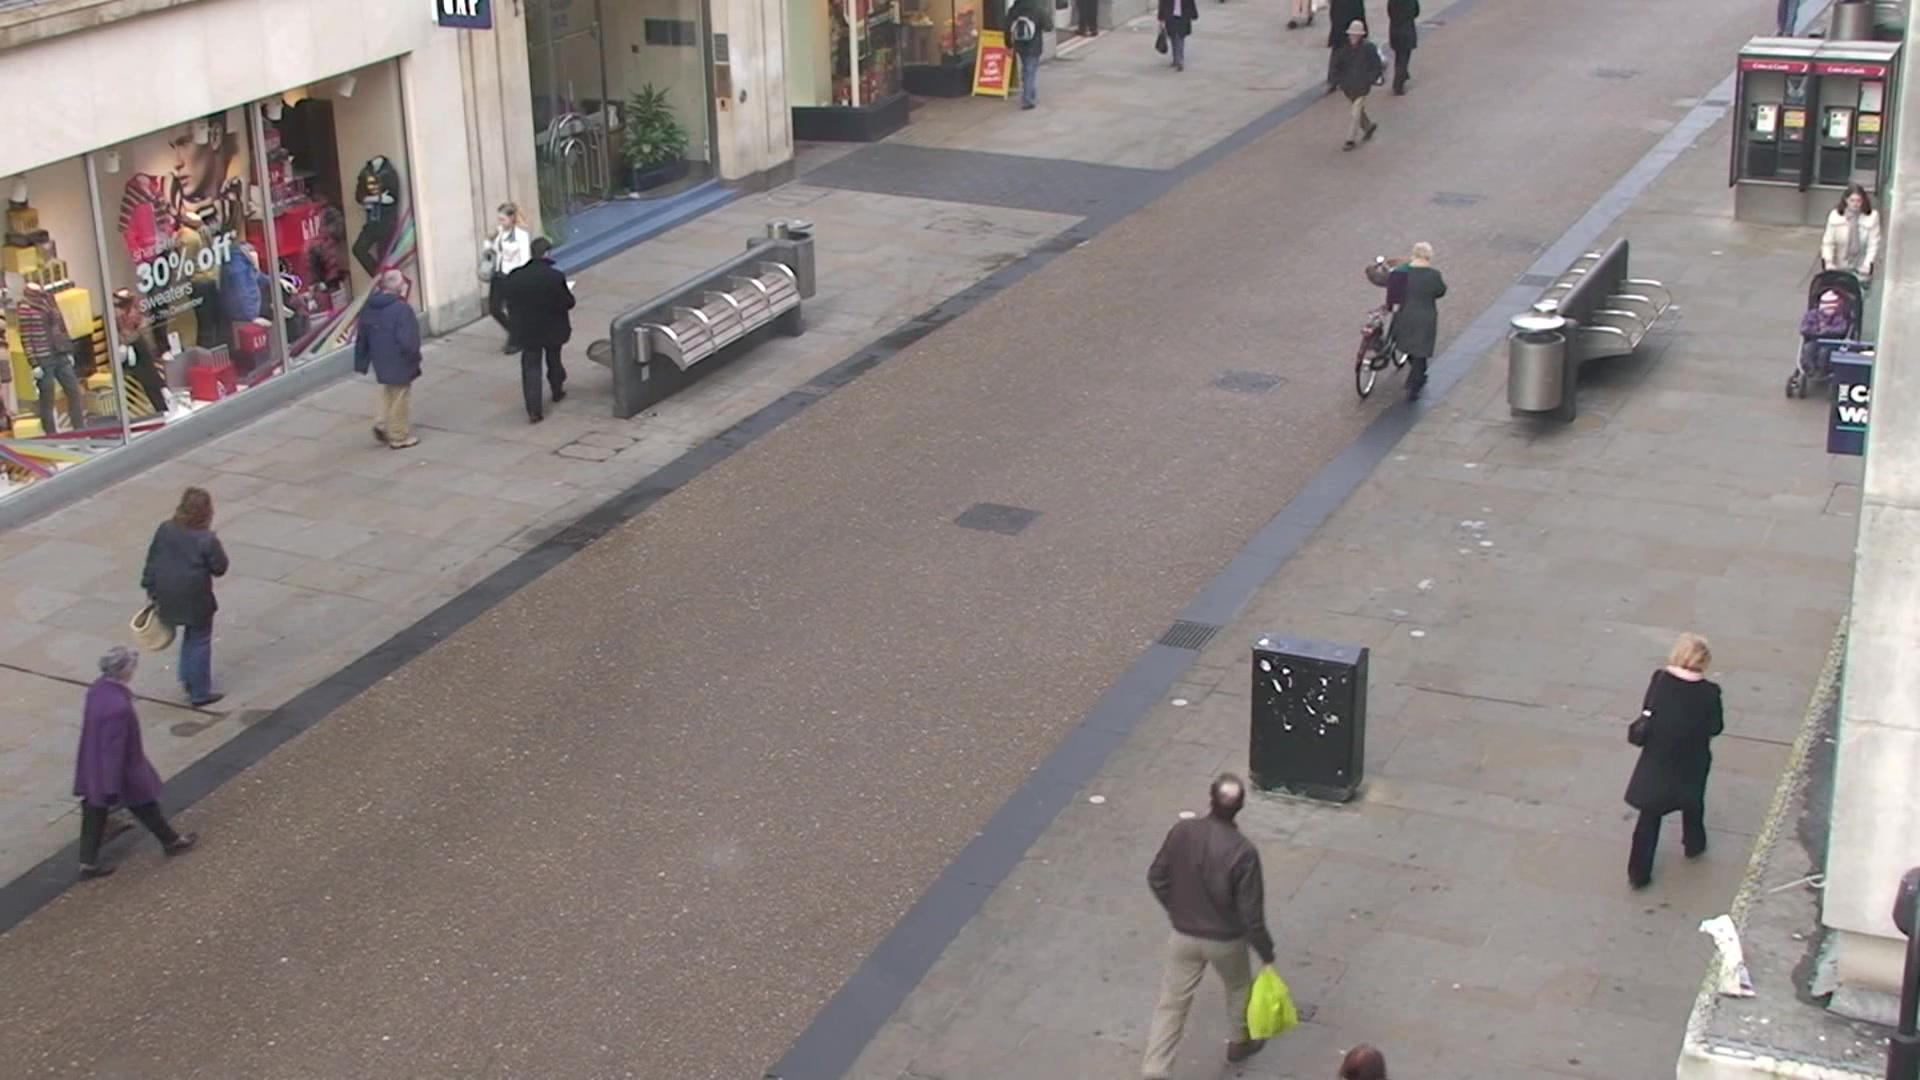person: (70, 645, 197, 881), (1628, 630, 1725, 888), (143, 489, 228, 704), (501, 238, 582, 429), (1368, 243, 1450, 401), (355, 269, 423, 448), (478, 203, 536, 356), (1334, 20, 1391, 151)
